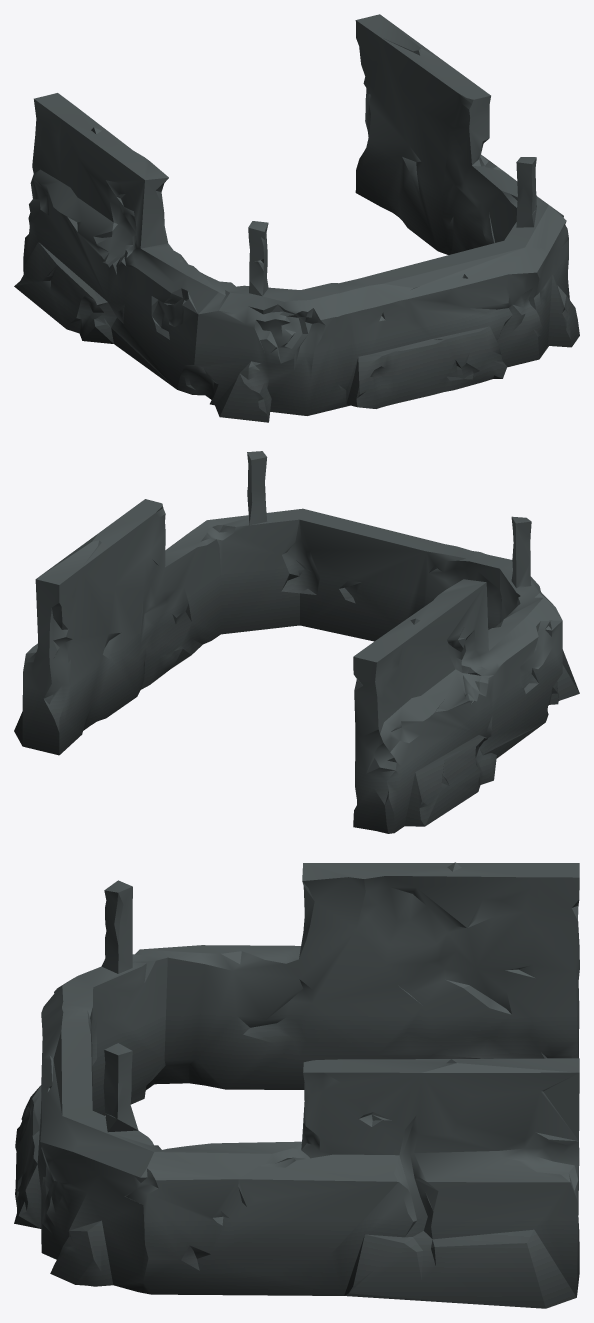
Rendered from B_Bottom.glb.
3 renders of one model, top to bottom at view 1: azimuth 30°, elevation 25°; view 2: azimuth 150°, elevation 25°; view 3: azimuth 270°, elevation 25°, orthographic. The views are drawn at different scales.
Parts seen in each view (by area): view 1: B_Bottom.col; view 2: B_Bottom.col; view 3: B_Bottom.col.
Boxes of the visible parts, x1,y1,x2,y2 form: B_Bottom.col: (14, 14, 579, 422); B_Bottom.col: (14, 451, 579, 833); B_Bottom.col: (14, 862, 579, 1308).
Bounding box in the file's own units: 4.33 × 1.78 × 4.1.
Materials: 1 (1 with a texture image).
